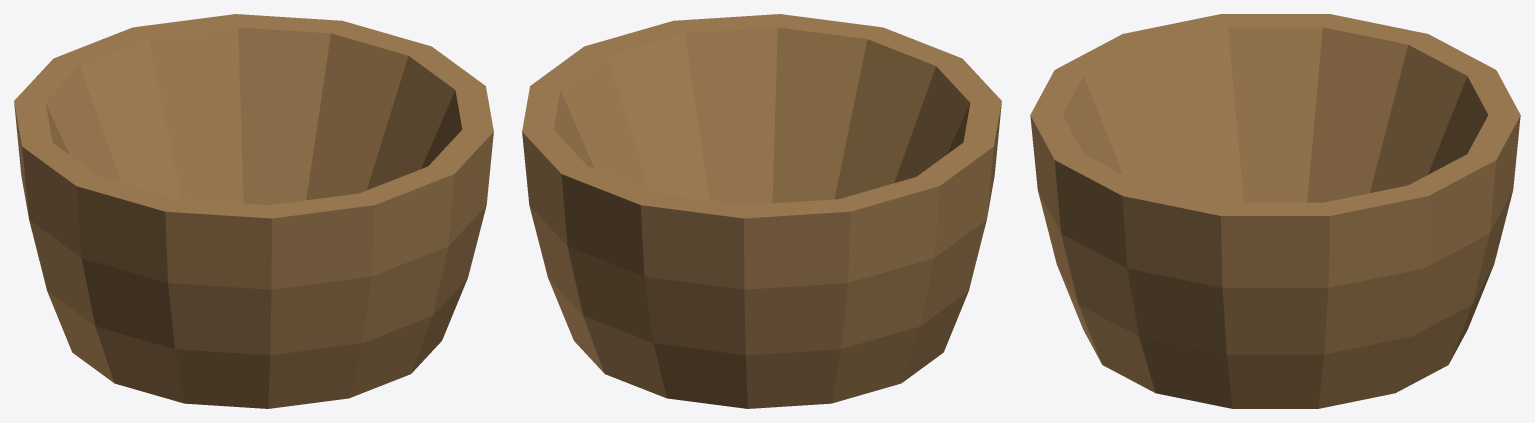
The model's file is Deep Dish_2.fbx.
3 renders of one model, left to right at view 1: azimuth 30°, elevation 25°; view 2: azimuth 150°, elevation 25°; view 3: azimuth 270°, elevation 25°, orthographic.
Parts seen in each view (by area): view 1: Deep Dish_2; view 2: Deep Dish_2; view 3: Deep Dish_2.
Part boxes in pixels (left/top/right/bottom): Deep Dish_2: left=14, top=14, right=493, bottom=408; Deep Dish_2: left=522, top=14, right=1001, bottom=408; Deep Dish_2: left=1030, top=14, right=1520, bottom=408.
Size of the model in its own units: 0.1464 by 0.0726 by 0.1502.
